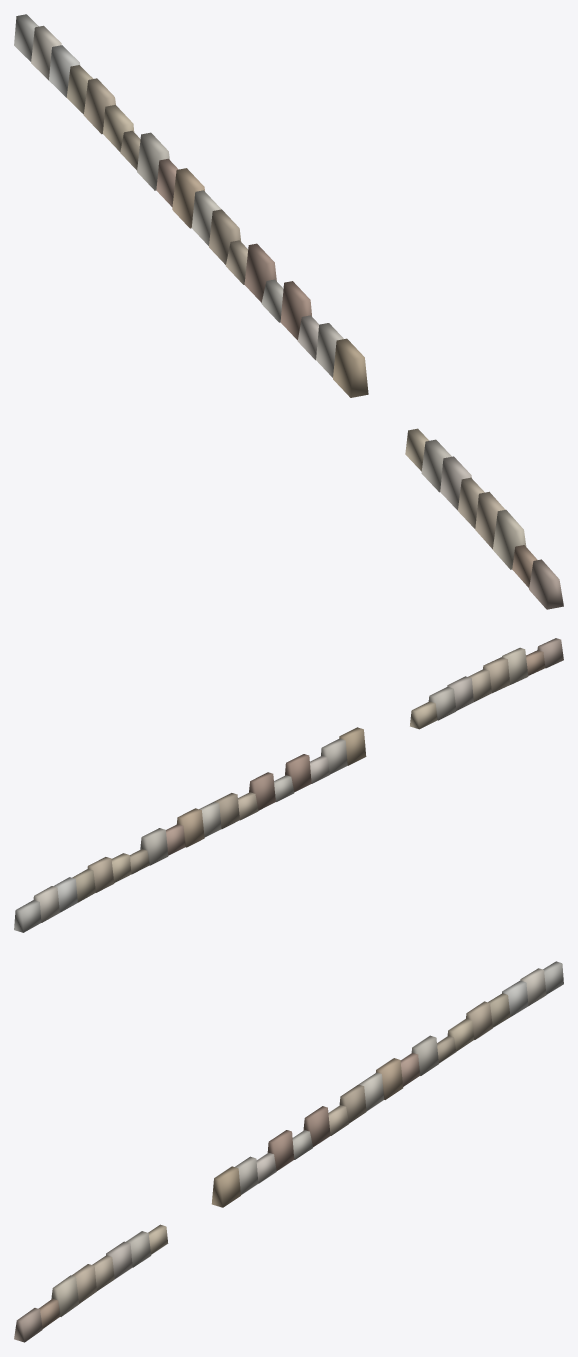
File: farm_7_25_collision.glb
3 renders of one model, top to bottom at view 1: azimuth 30°, elevation 25°; view 2: azimuth 150°, elevation 25°; view 3: azimuth 330°, elevation 25°, orthographic. The views are drawn at different scales.
Visible parts, largest first — view 1: geometry_0; view 2: geometry_0; view 3: geometry_0.
Boxes of the visible parts, box(x1,y1,x2,y2) form: geometry_0: box(14, 14, 563, 609); geometry_0: box(14, 638, 563, 932); geometry_0: box(14, 961, 563, 1342).
Size of the model in its own units: 5.41 by 3.75 by 46.61.
